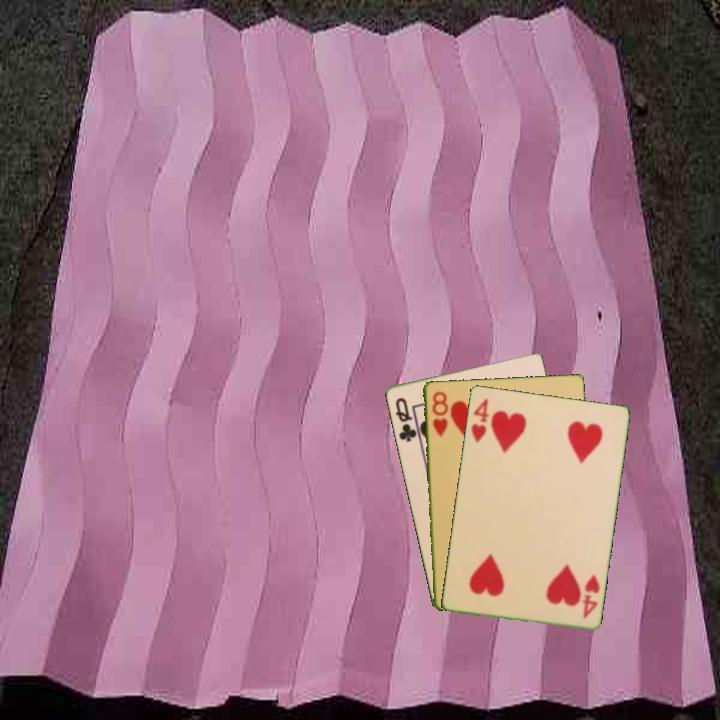4h: (468, 394, 492, 445), (578, 571, 602, 621)
8h: (429, 388, 450, 439)
Qc: (391, 394, 419, 445)
